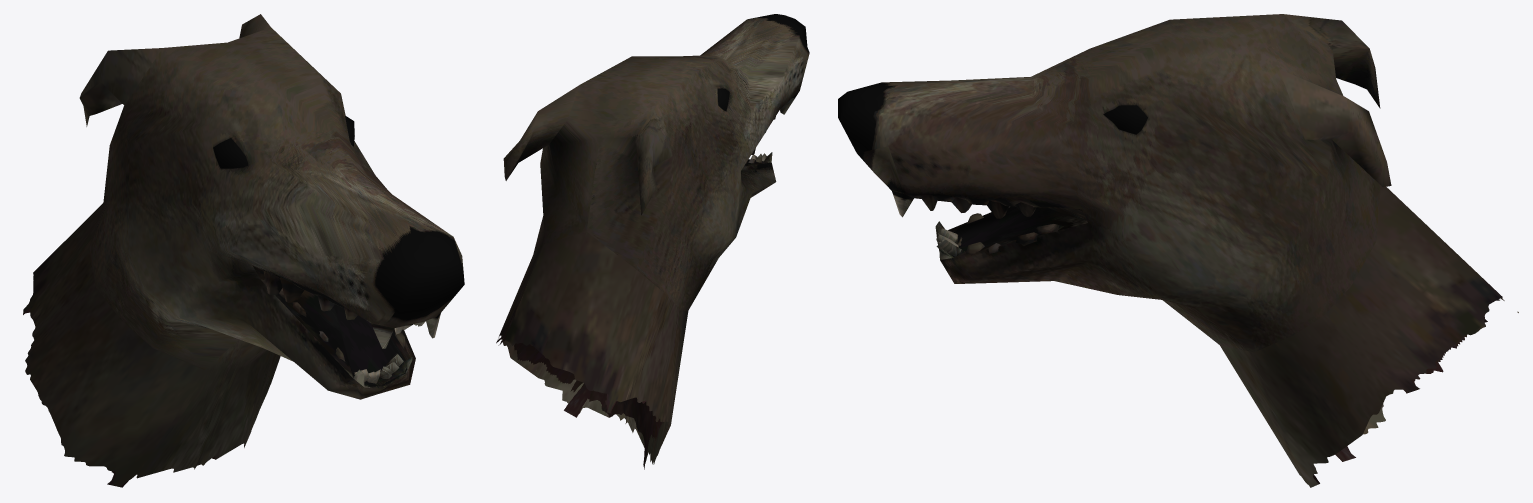
The model's file is stuffed_dog_head.dae.
3 views of the same model, side by side, from view 1: azimuth 30°, elevation 25°; view 2: azimuth 150°, elevation 25°; view 3: azimuth 270°, elevation 25° (orthographic). The views are drawn at different scales.
Visible parts, largest first — view 1: polySurface2; view 2: polySurface2; view 3: polySurface2.
Boxes of the visible parts, x1,y1,x2,y2 form: polySurface2: (23,14,464,487); polySurface2: (496,14,809,469); polySurface2: (838,14,1518,487).
Bounding box in the file's own units: 0.173 × 0.3228 × 0.4379.
